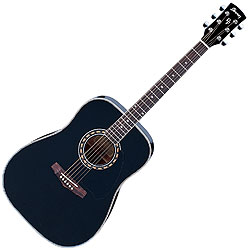guitar: (4, 1, 247, 248)
